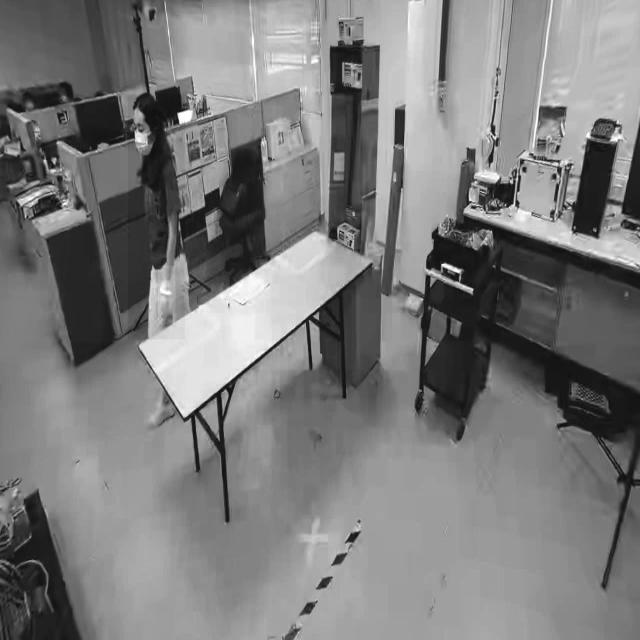face_mask: (130, 125, 154, 159)
hand_glove: (157, 266, 175, 325)
head_nohelmet: (132, 92, 160, 110)
person: (127, 94, 185, 340)
